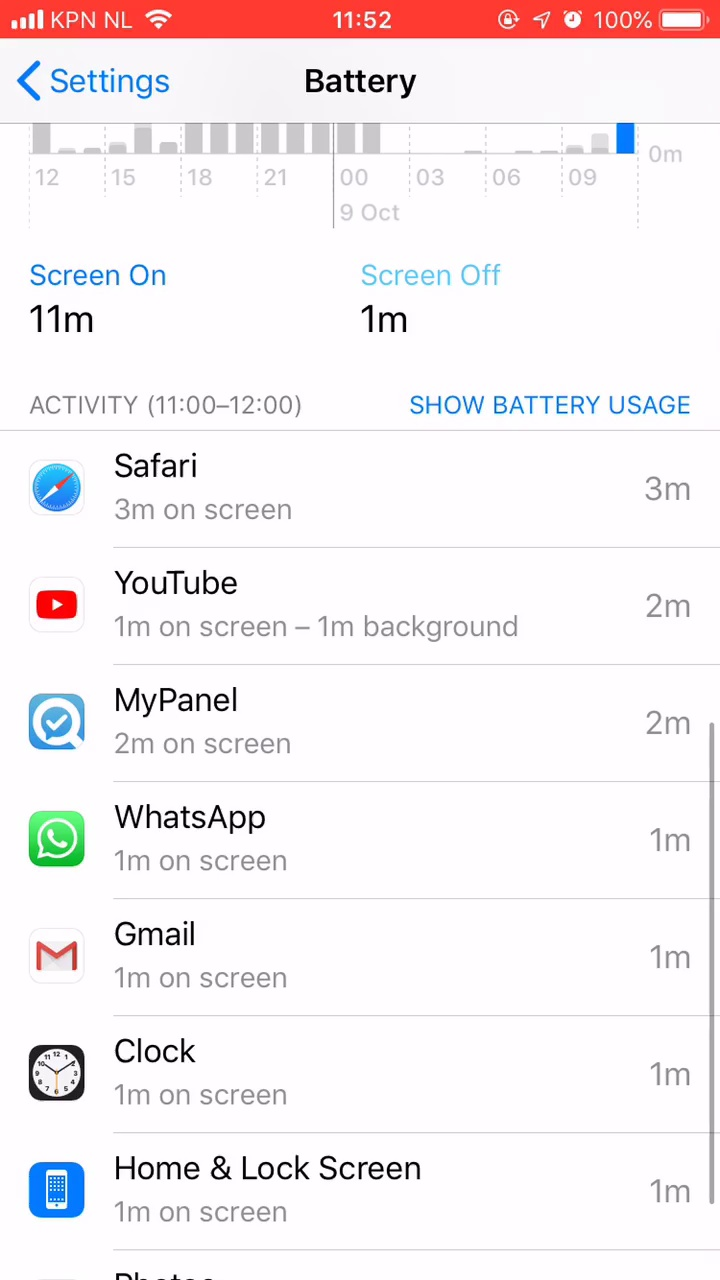activity: (26, 380, 324, 419)
app: (24, 447, 700, 533), (25, 564, 701, 650), (19, 679, 695, 765), (21, 796, 697, 882), (24, 915, 700, 1001), (20, 1029, 696, 1115), (27, 1141, 703, 1227)
